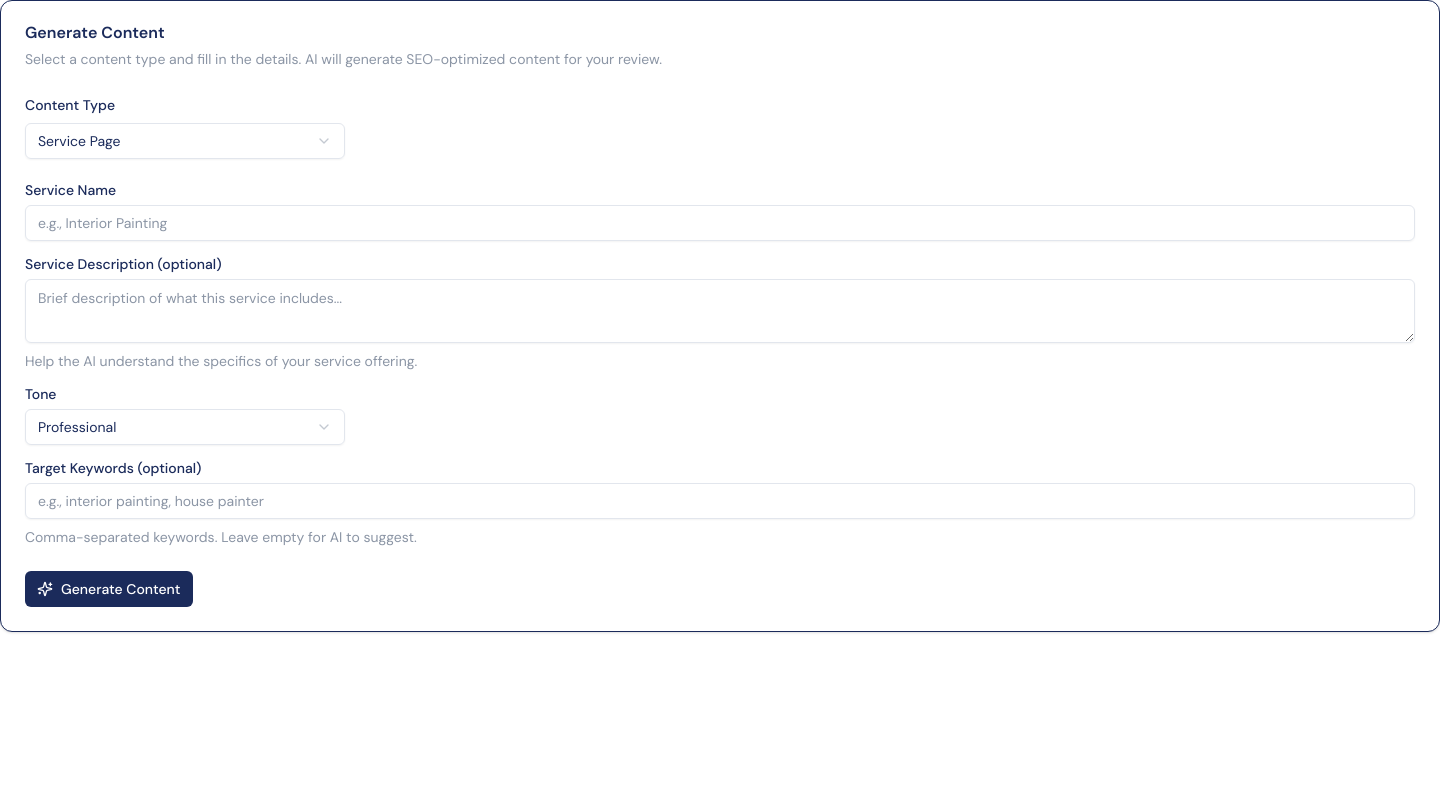
Test case: ContentGenerateForm › renders preview after successful generation
Step 1. Type "Interior Painting" into the field with placeholder "e.g., Interior Painting" → coordinates (720, 223), box [25,205,1415,241]
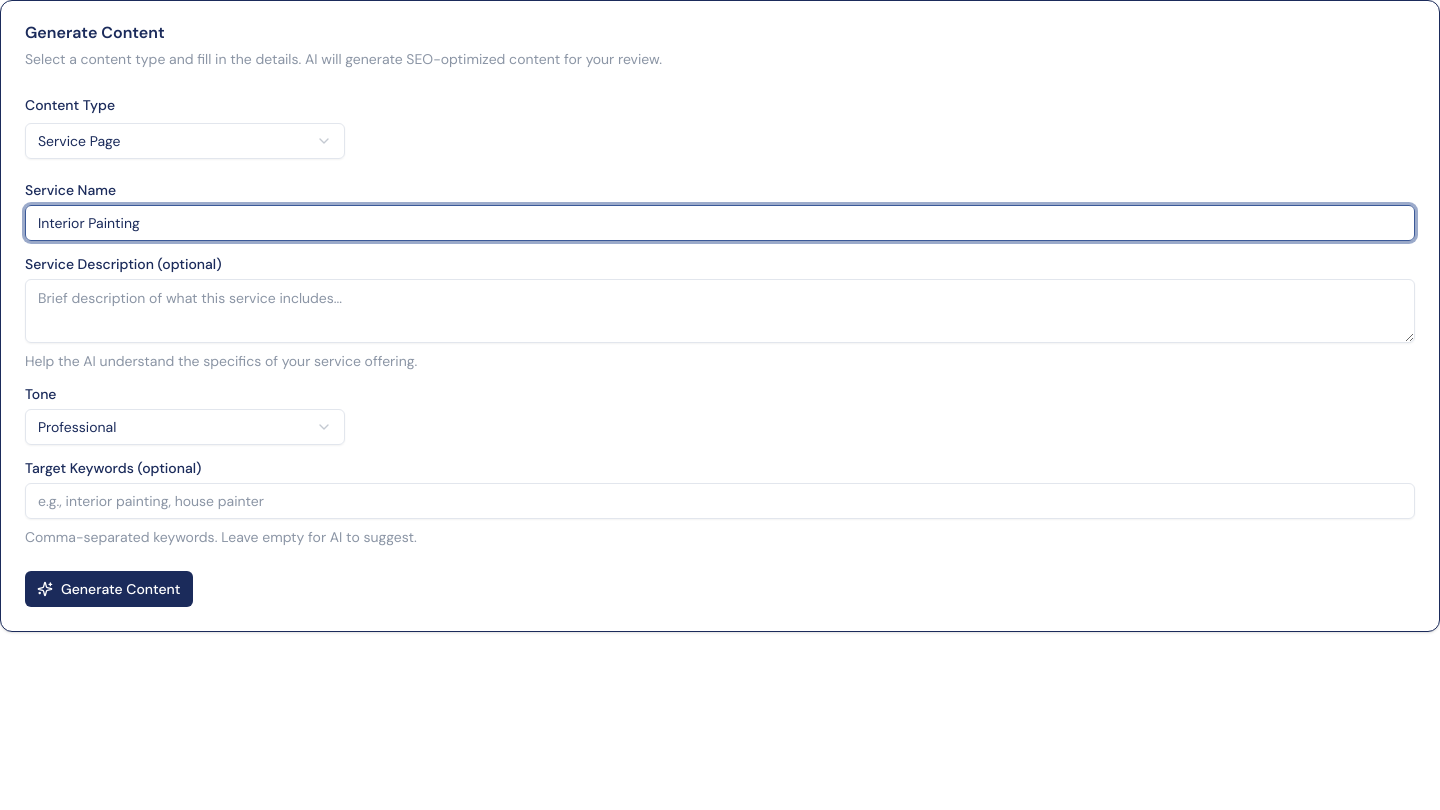
Step 2. Click the button "Generate Content" → coordinates (109, 589), box [25,571,192,607]
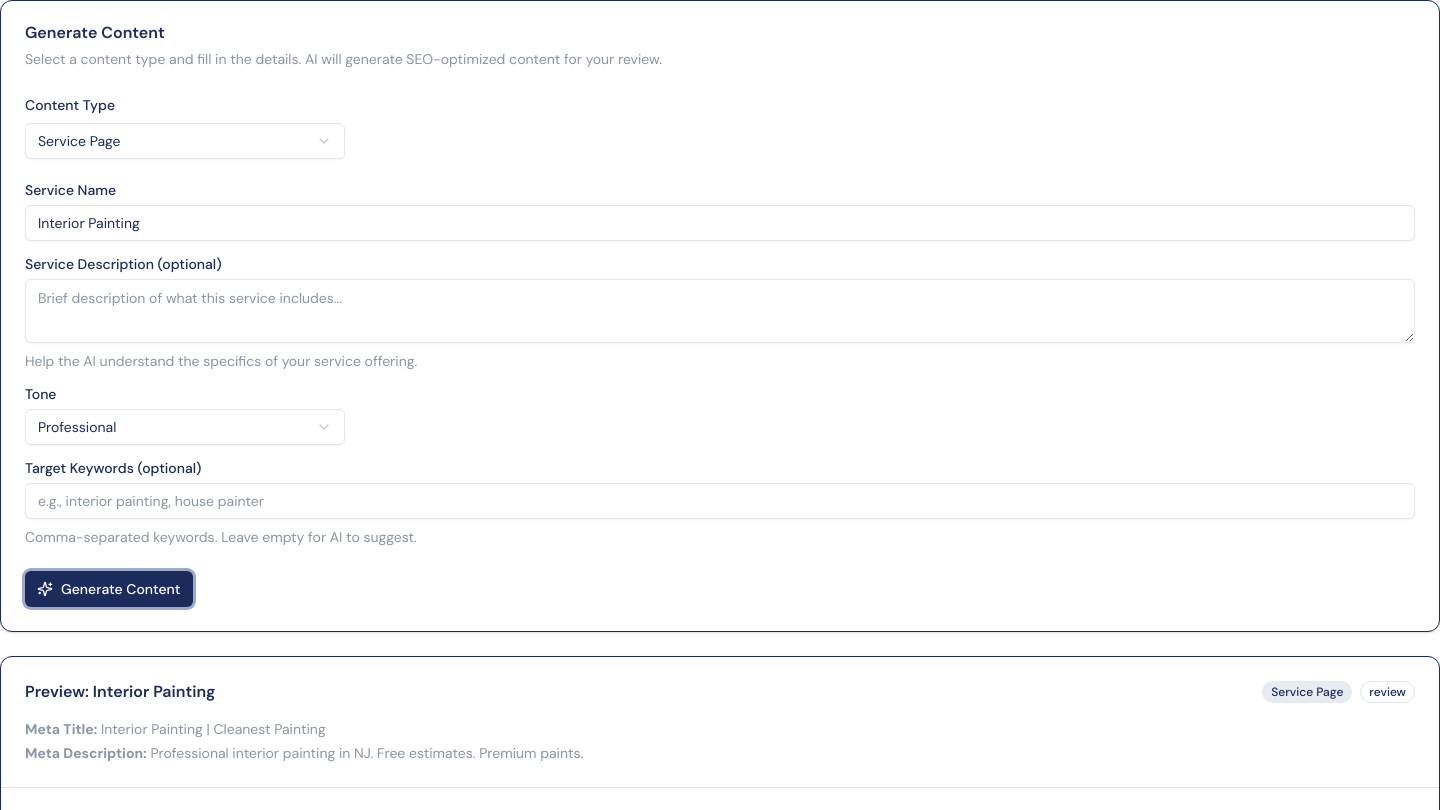
Result: the text "Preview: Interior Painting" is shown at [25,684,215,700]
